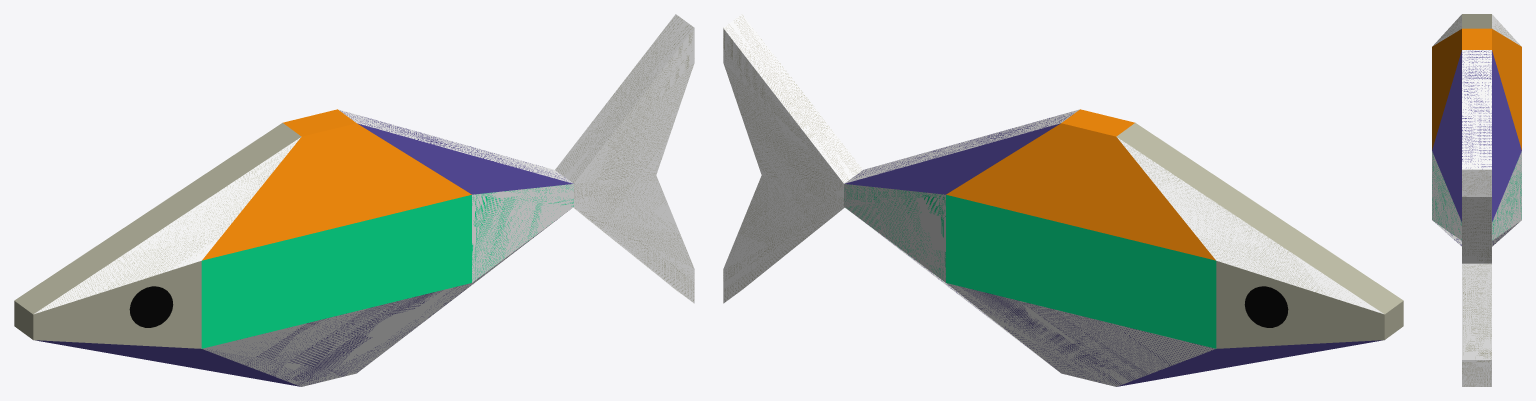
Rendered from lowpolyfish2.obj.
3 renders of one model, left to right at view 1: azimuth 30°, elevation 25°; view 2: azimuth 150°, elevation 25°; view 3: azimuth 270°, elevation 25°, orthographic. The views are drawn at different scales.
Parts seen in each view (by area): view 1: SketchUp.001_ID12, SketchUp_ID2, SketchUp.003_ID28, SketchUp.006_ID46, SketchUp.004_ID34, SketchUp.002_ID20, SketchUp.007_ID54; view 2: SketchUp.005_ID40, SketchUp_ID2, SketchUp.003_ID28, SketchUp.006_ID46, SketchUp.004_ID34, SketchUp.002_ID20, SketchUp.008_ID62; view 3: SketchUp.002_ID20, SketchUp.003_ID28, SketchUp.006_ID46, SketchUp.005_ID40, SketchUp.001_ID12, SketchUp_ID2, SketchUp.004_ID34.
Boxes of the visible parts, <box> form: SketchUp.001_ID12: <box>201,184,573,348</box>; SketchUp_ID2: <box>14,123,301,348</box>; SketchUp.003_ID28: <box>555,14,694,303</box>; SketchUp.006_ID46: <box>202,109,471,260</box>; SketchUp.004_ID34: <box>35,211,567,386</box>; SketchUp.002_ID20: <box>338,109,573,194</box>; SketchUp.007_ID54: <box>129,286,173,327</box>; SketchUp.005_ID40: <box>844,184,1216,348</box>; SketchUp_ID2: <box>1116,123,1403,348</box>; SketchUp.003_ID28: <box>723,14,862,303</box>; SketchUp.006_ID46: <box>946,109,1215,260</box>; SketchUp.004_ID34: <box>850,211,1382,386</box>; SketchUp.002_ID20: <box>844,109,1079,194</box>; SketchUp.008_ID62: <box>1244,286,1288,327</box>; SketchUp.002_ID20: <box>1432,50,1521,221</box>; SketchUp.003_ID28: <box>1462,169,1491,386</box>; SketchUp.006_ID46: <box>1432,28,1521,149</box>; SketchUp.005_ID40: <box>1492,151,1521,240</box>; SketchUp.001_ID12: <box>1432,151,1461,240</box>; SketchUp_ID2: <box>1432,14,1521,46</box>; SketchUp.004_ID34: <box>1432,220,1521,246</box>.
Bounding box in the file's own units: 100 × 40 × 15.
